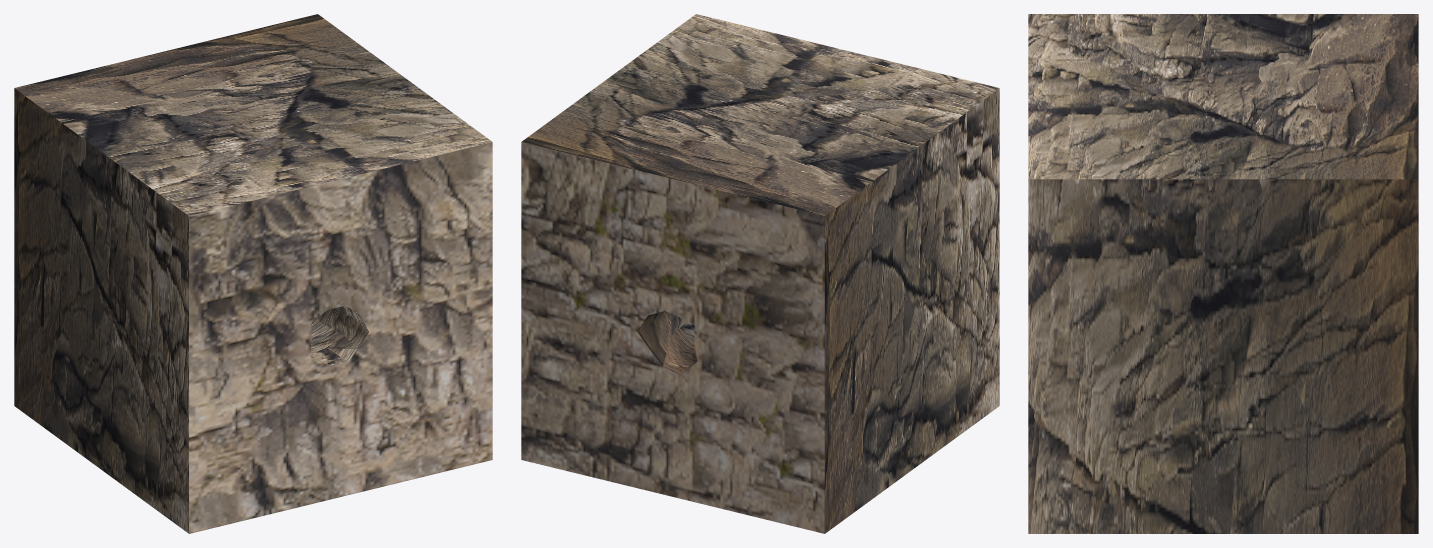
Rendered from tunnel_block_1_.obj.
3 views of the same model, side by side, from view 1: azimuth 30°, elevation 25°; view 2: azimuth 150°, elevation 25°; view 3: azimuth 270°, elevation 25° (orthographic). The views are drawn at different scales.
Parts seen in each view (by area): view 1: Box001.001; view 2: Box001.001; view 3: Box001.001.
Part boxes in pixels (x1,y1,x2,y2): Box001.001: [14, 14, 492, 533]; Box001.001: [521, 14, 999, 533]; Box001.001: [1028, 14, 1418, 533].
Size of the model in its own units: 100 by 100 by 99.82.
